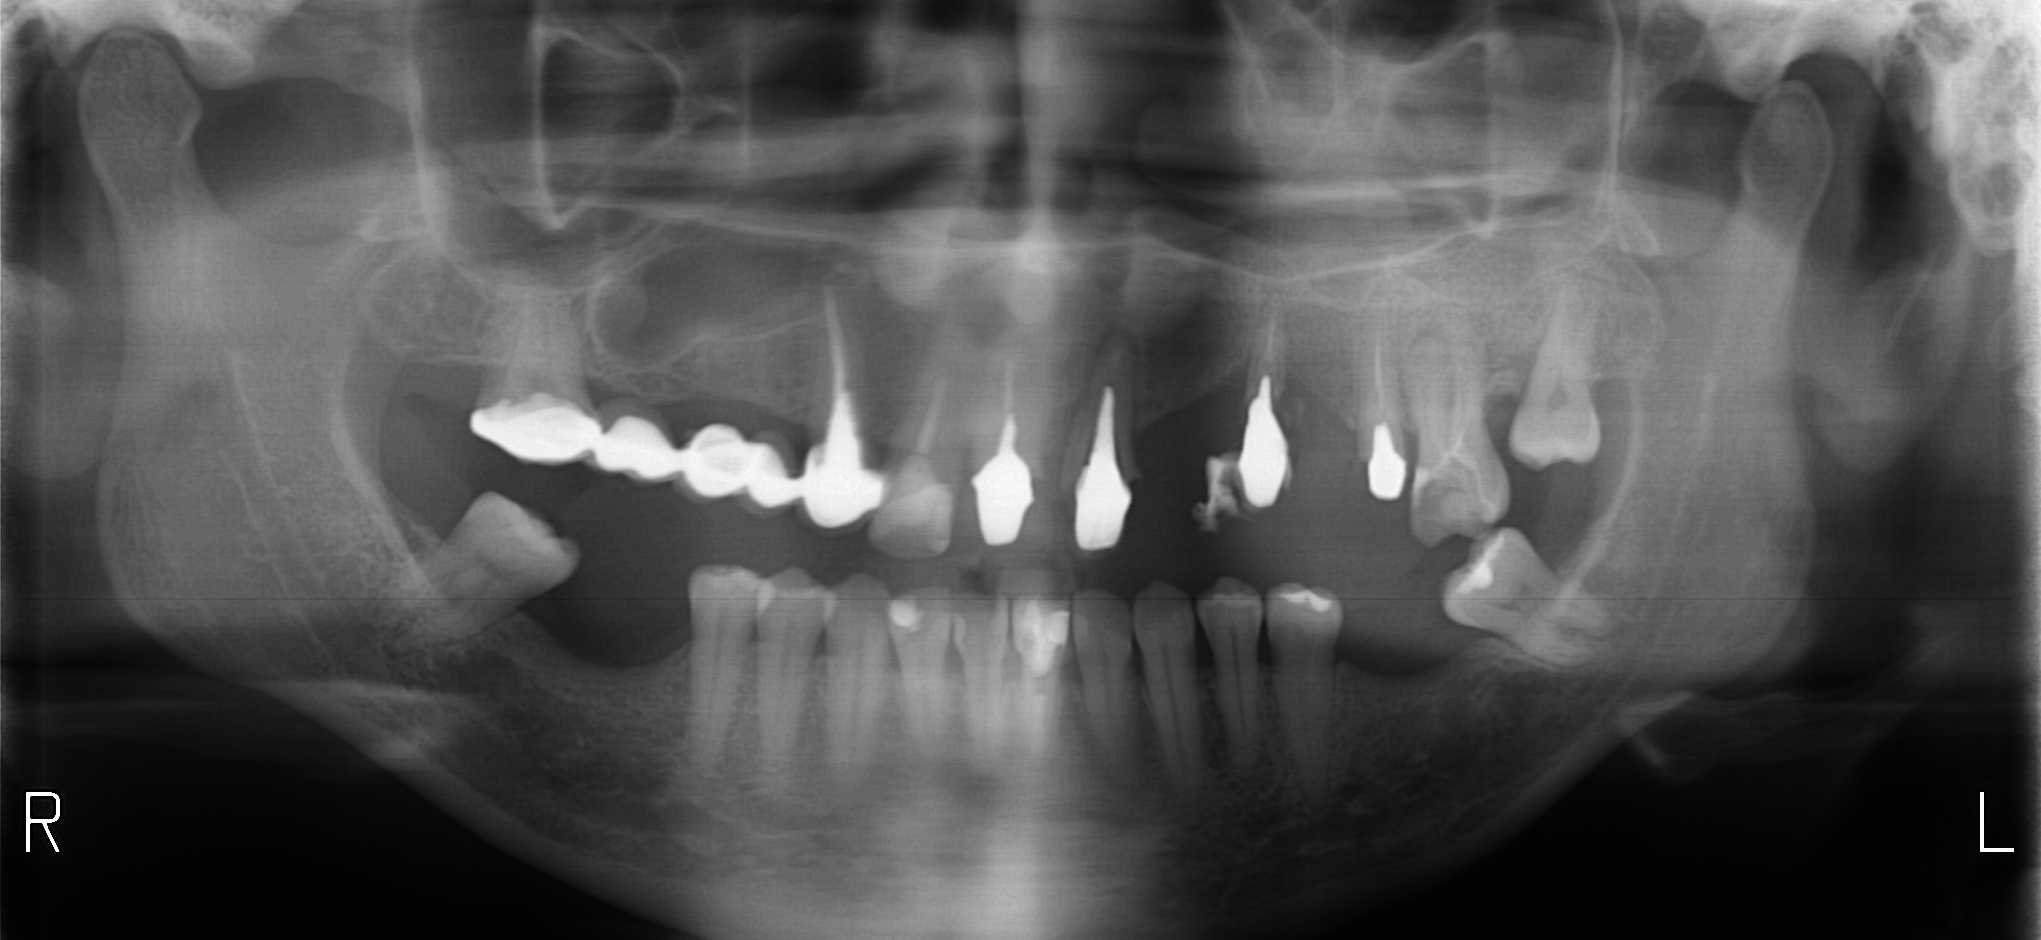cavity: (1415, 484, 1464, 523)
